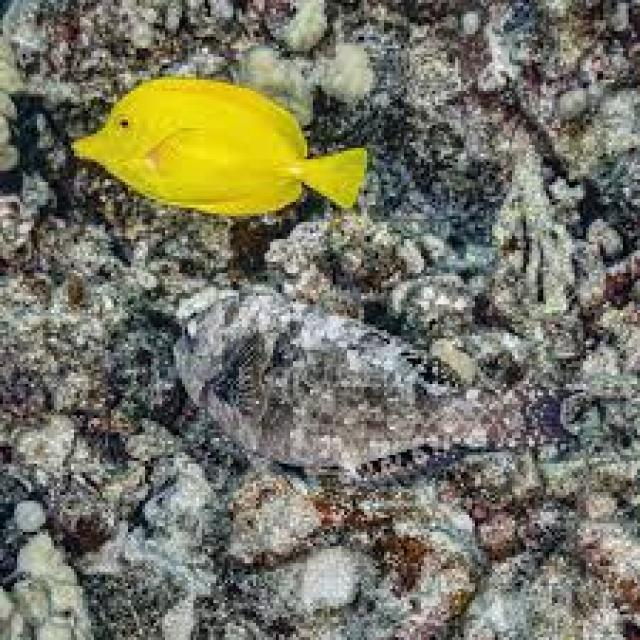YellowTang: (70, 72, 379, 231)
